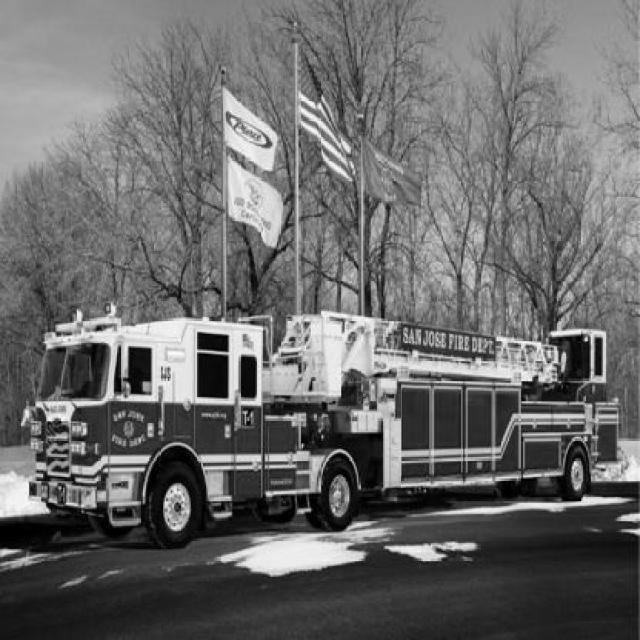Fire Truck: (29, 300, 620, 551)
